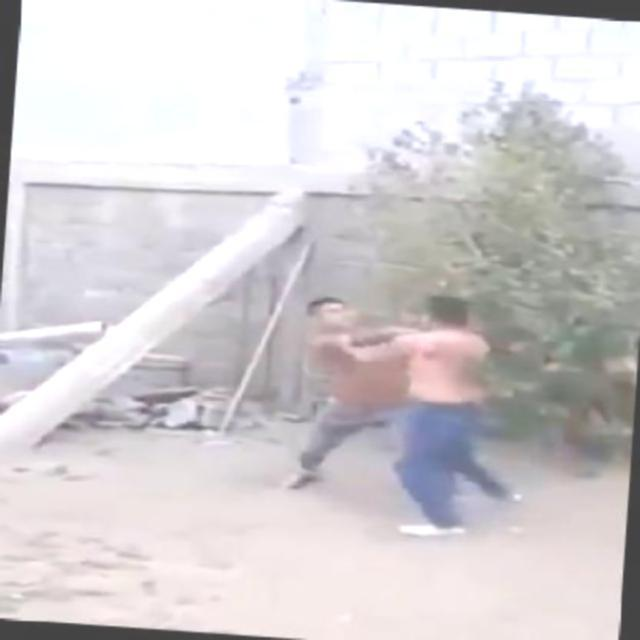fight: (276, 282, 529, 544)
